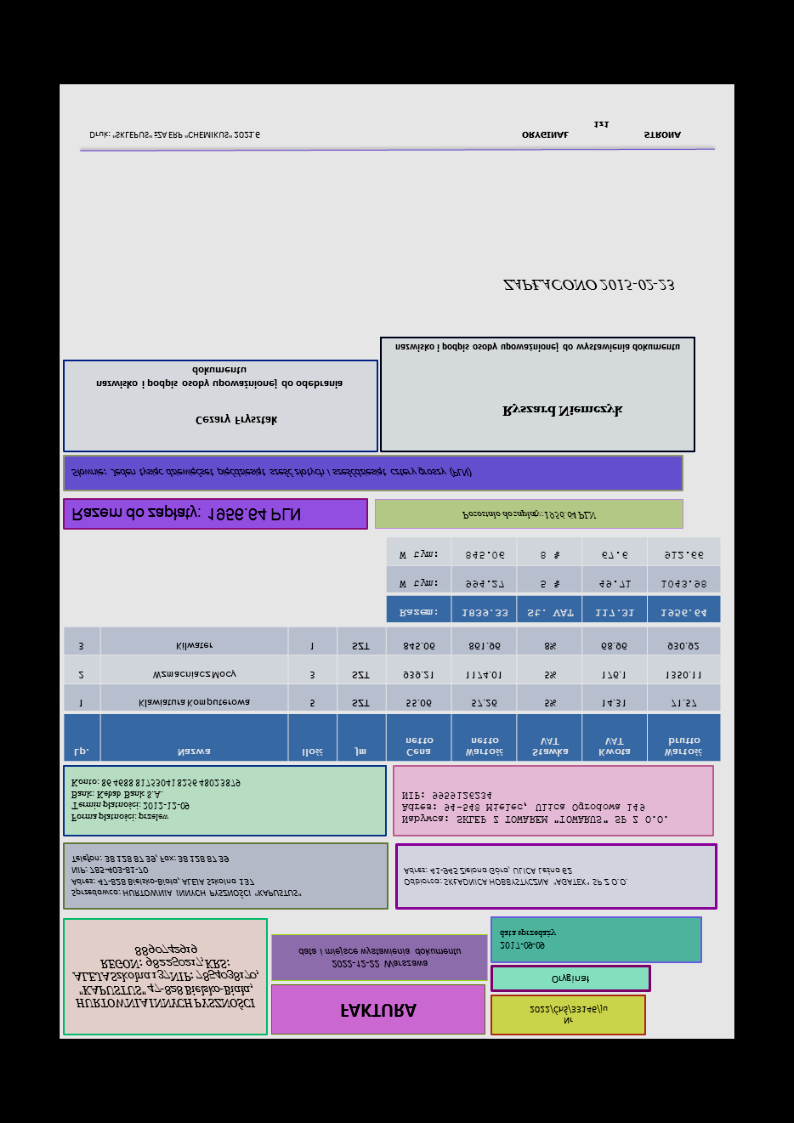Table: (62, 626, 722, 763), (385, 536, 723, 623)
TextBox: (71, 942, 262, 1011), (69, 852, 304, 899), (400, 790, 671, 826), (70, 777, 243, 825), (93, 366, 345, 391), (401, 865, 629, 890), (70, 465, 474, 479), (70, 503, 302, 524), (393, 340, 682, 355), (298, 945, 463, 970), (519, 118, 683, 141), (501, 277, 677, 293), (88, 128, 262, 140), (502, 403, 624, 420), (528, 1002, 610, 1026), (460, 509, 598, 522), (338, 1001, 418, 1020), (497, 927, 557, 952), (195, 413, 279, 428), (550, 972, 591, 986)
